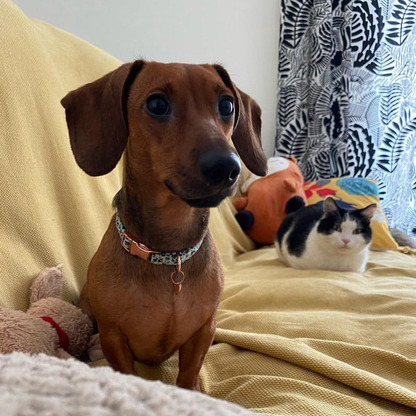dachshund: (56, 59, 289, 395)
